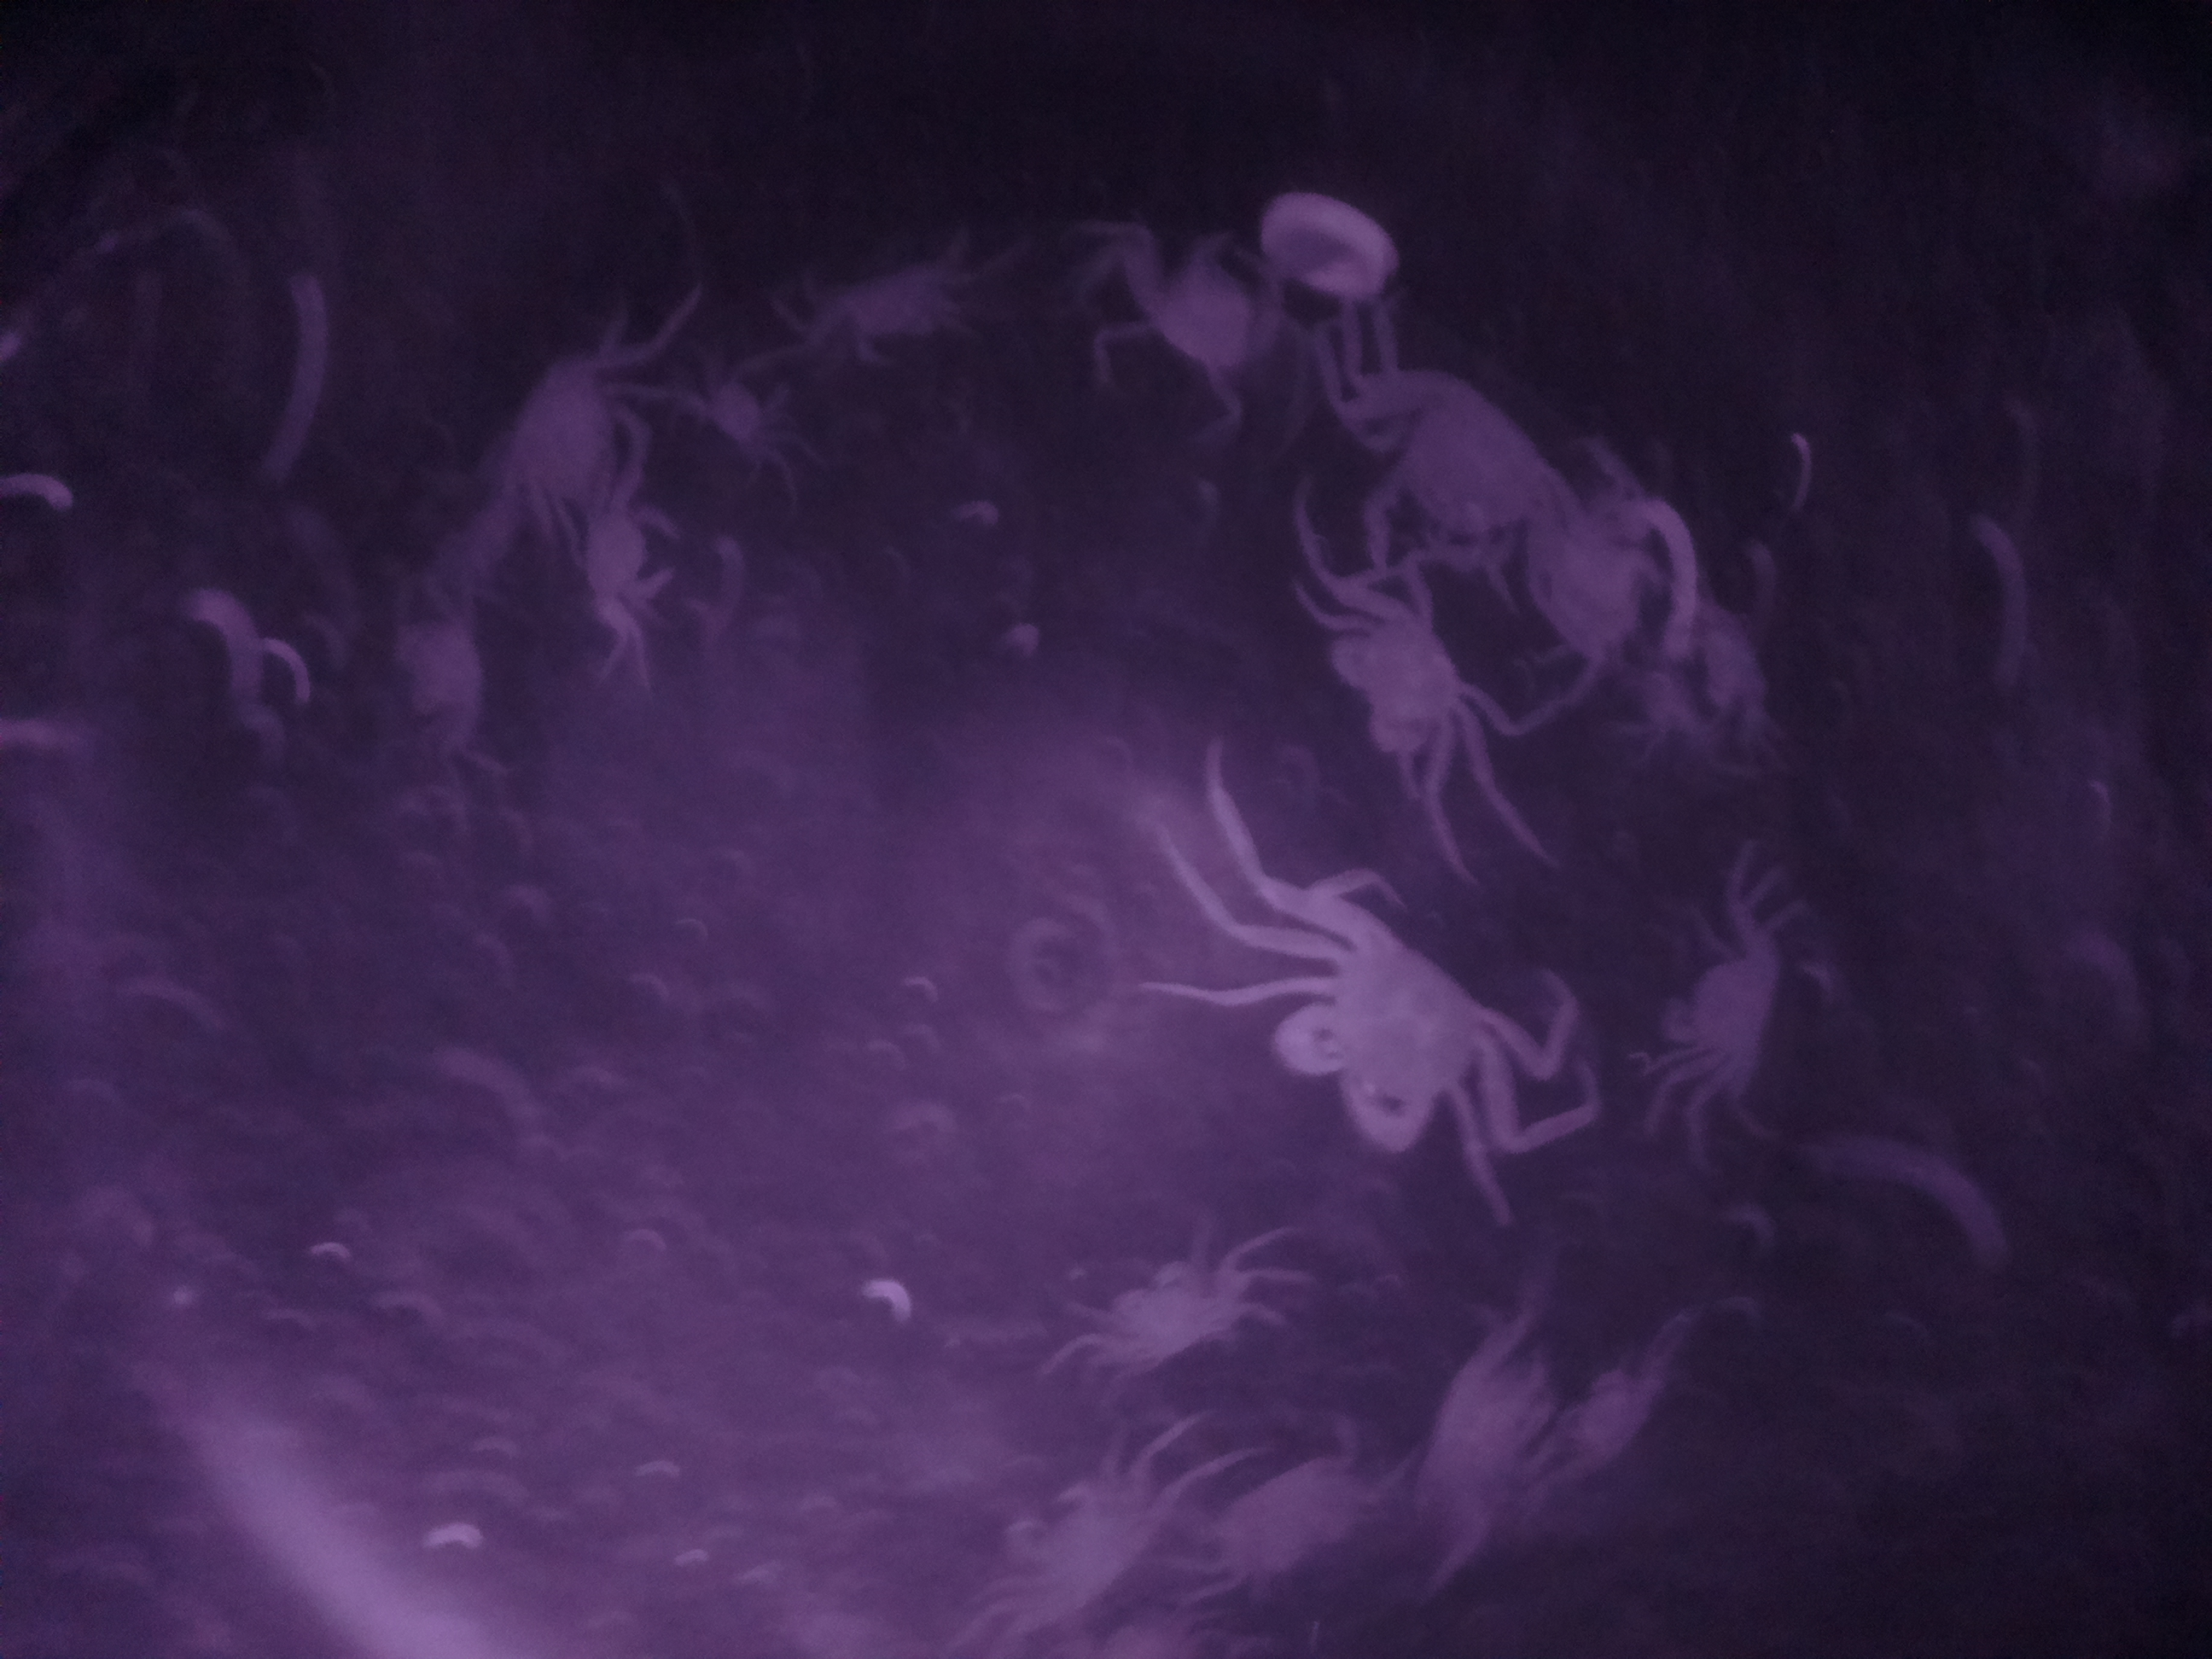Crab: (1263, 873, 1522, 1182), (1315, 589, 1472, 791), (1644, 903, 1796, 1107), (1064, 1241, 1238, 1394), (563, 477, 705, 647)
